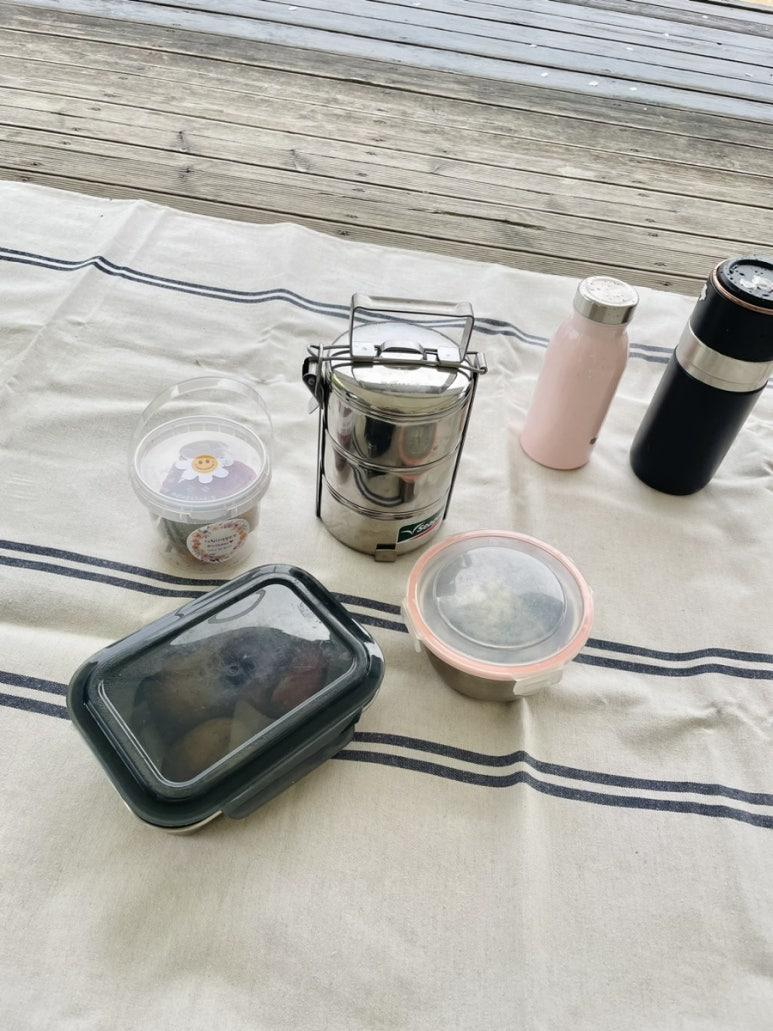Bottle: (630, 255, 772, 494), (130, 375, 270, 565), (520, 274, 637, 469)
Lunch Box: (67, 564, 383, 830), (303, 295, 485, 559), (402, 531, 592, 701)
